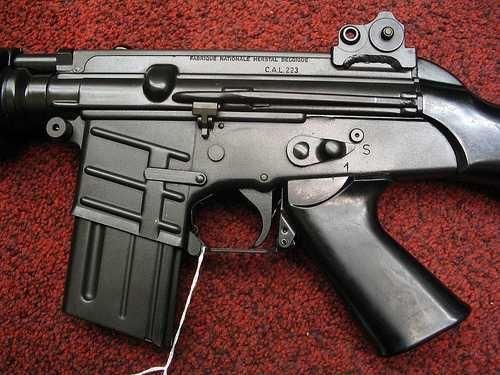heavyweapon: (0, 9, 500, 350)
